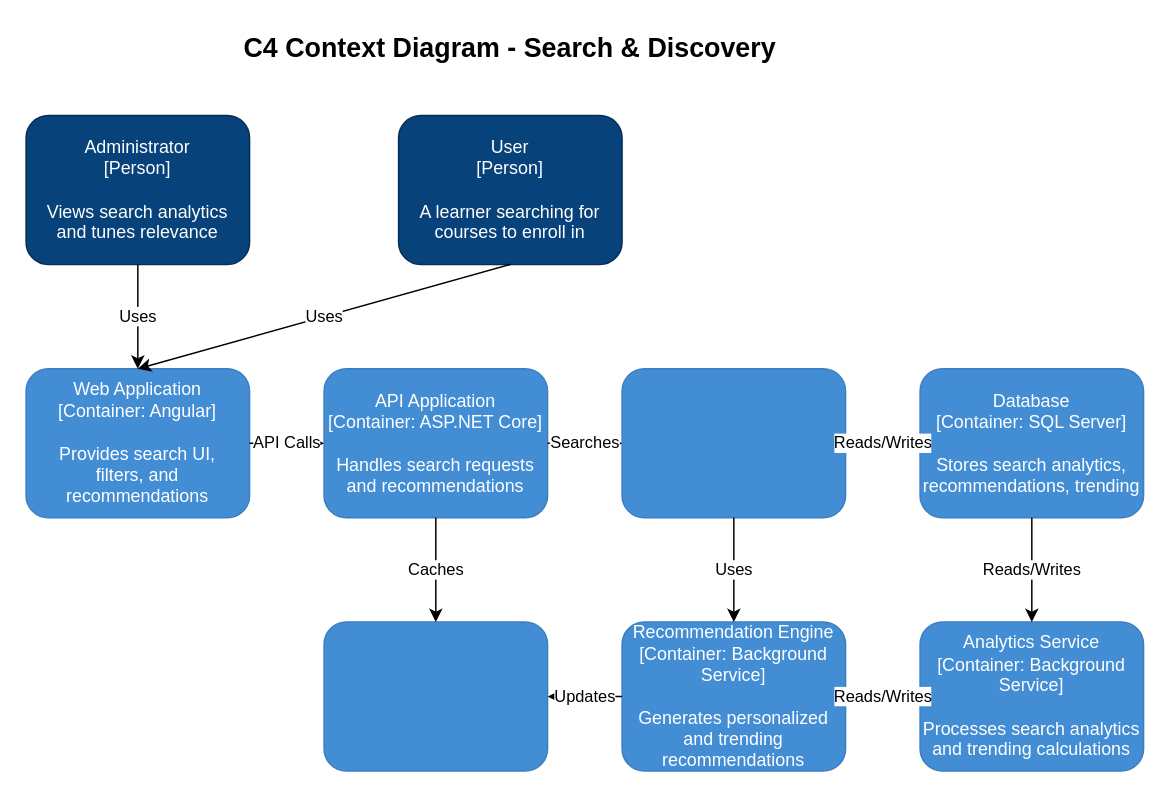
The diagram is 1170 pixels wide and 797 high, and some of its shapes have lost their labels. The shapes that lost their labels are listed below. From the top down, each one's centre as x and y in pixels, then its label:
(x=733, y=442): Search Engine [Container: Elasticsearch] Indexes and searches course content
(x=435, y=696): Cache [Container: Redis] Caches search results and recommendations
